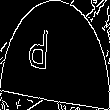P_S: (44, 28, 66, 82)
